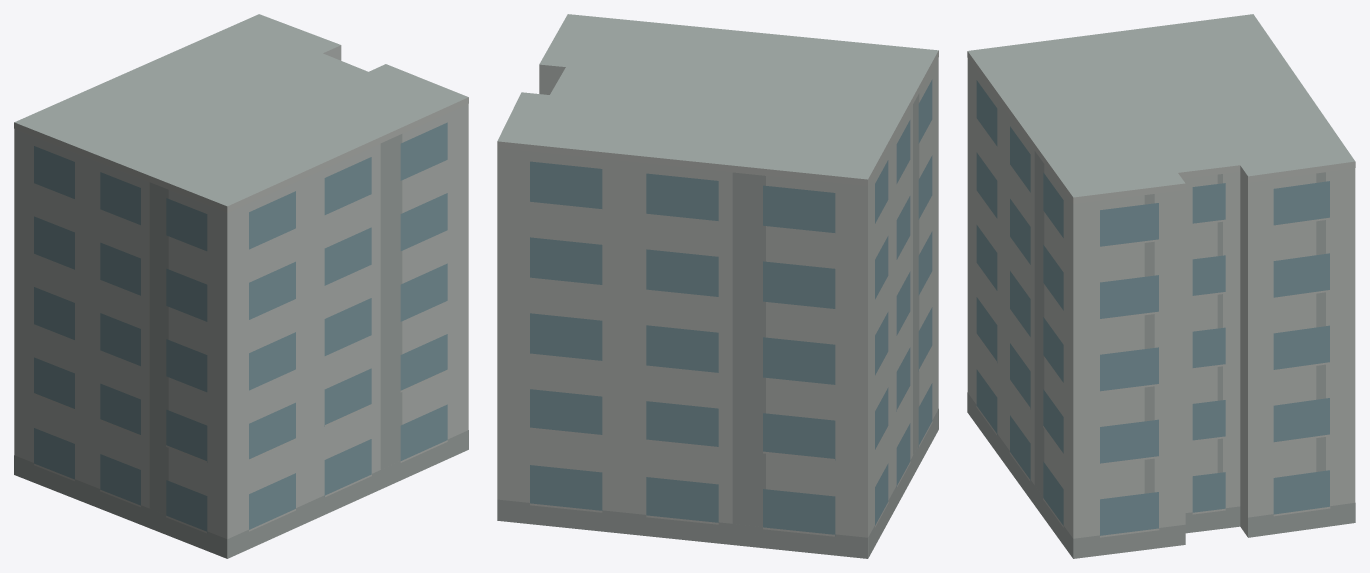
File: survey-upis-32560865.glb
3 views of the same model, side by side, from view 1: azimuth 30°, elevation 25°; view 2: azimuth 150°, elevation 25°; view 3: azimuth 270°, elevation 25° (orthographic). The views are drawn at different scales.
Visible parts, largest first — view 1: survey-upis-32560865.tmp; view 2: survey-upis-32560865.tmp; view 3: survey-upis-32560865.tmp.
Part boxes in pixels (box(x1,y1,x2,y2)): survey-upis-32560865.tmp: box(14, 14, 468, 558); survey-upis-32560865.tmp: box(497, 14, 938, 558); survey-upis-32560865.tmp: box(967, 14, 1355, 558).
Bounding box in the file's own units: 14.6 × 13.4 × 13.05.
